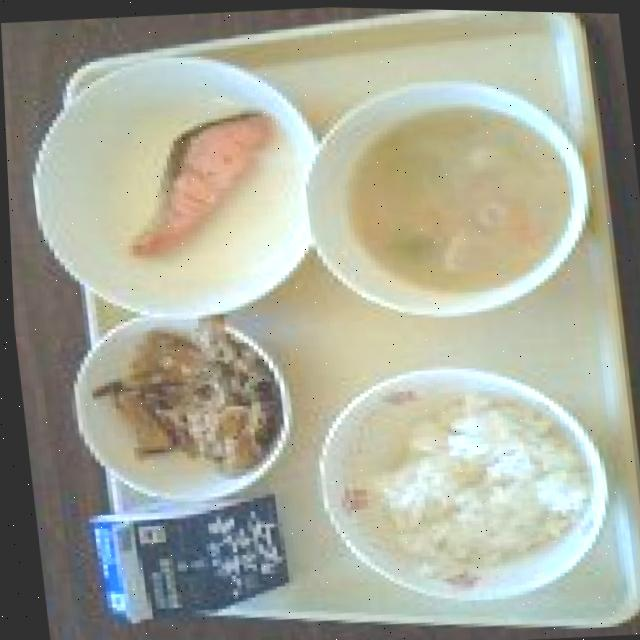熟制海鲜: (84, 92, 304, 278)
